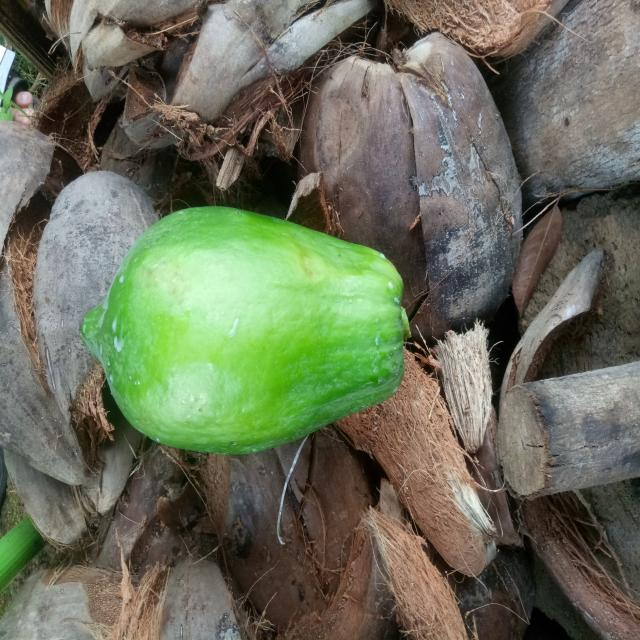Pepaya unrippen: (82, 185, 418, 487)
